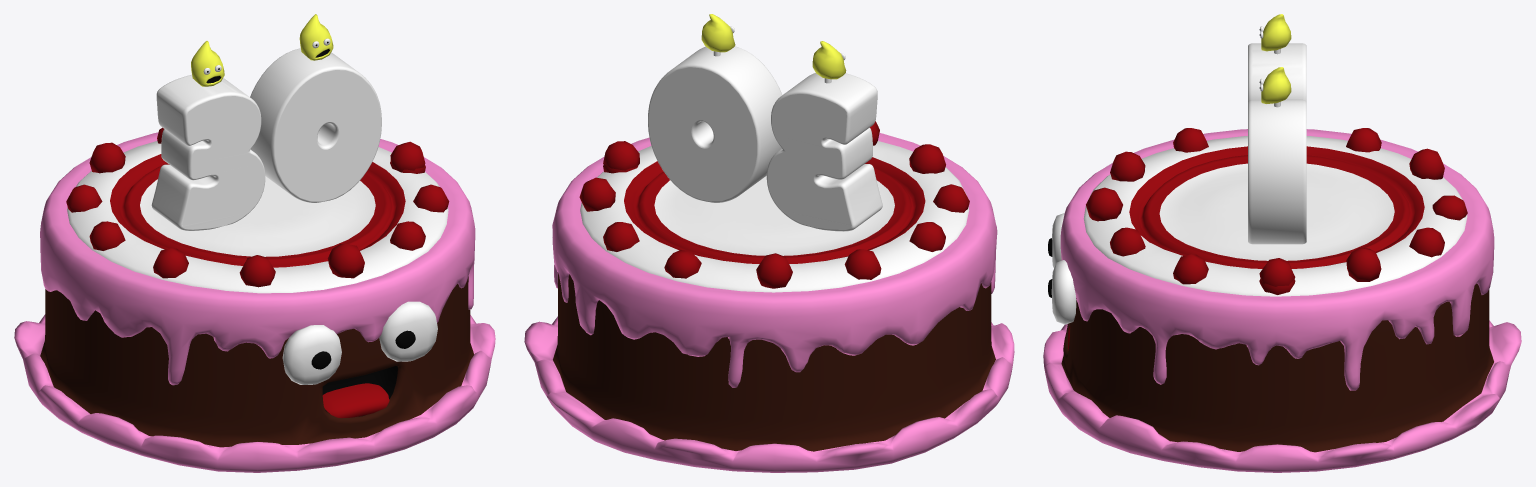
The model's file is Cake30.fbx.
3 views of the same model, side by side, from view 1: azimuth 30°, elevation 25°; view 2: azimuth 150°, elevation 25°; view 3: azimuth 270°, elevation 25° (orthographic). The views are drawn at different scales.
Parts seen in each view (by area): view 1: Glaze hat, Base Cake, NumberCandle, Detail, candles; view 2: Glaze hat, Base Cake, NumberCandle, Detail, candles; view 3: Glaze hat, Base Cake, Detail, NumberCandle, candles.
Part boxes in pixels (x1,y1,x2,y2): Glaze hat: (40,132,475,385); Base Cake: (14,276,495,472); NumberCandle: (151,48,381,230); Detail: (66,127,449,418); candles: (191,14,333,86); Glaze hat: (552,133,997,387); Base Cake: (524,273,1014,472); NumberCandle: (648,46,882,231); Detail: (579,121,969,288); candles: (701,14,846,83); Glaze hat: (1060,129,1494,390); Base Cake: (1043,283,1521,472); Detail: (1048,128,1467,350); NumberCandle: (1248,43,1306,244); candles: (1259,14,1291,107).
Bounding box in the file's own units: 221 × 177 × 221.
